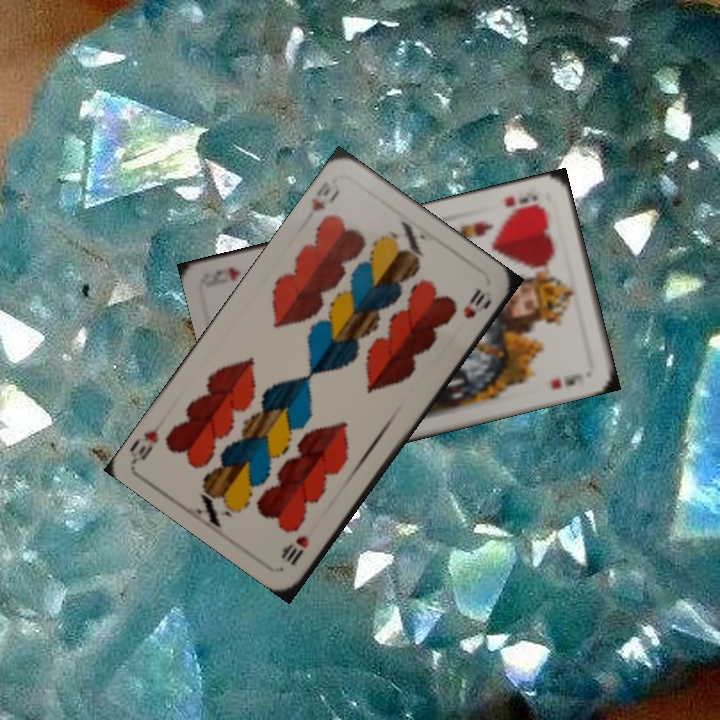H10: (307, 177, 343, 214), (279, 531, 312, 569)
HK: (500, 191, 543, 217)
